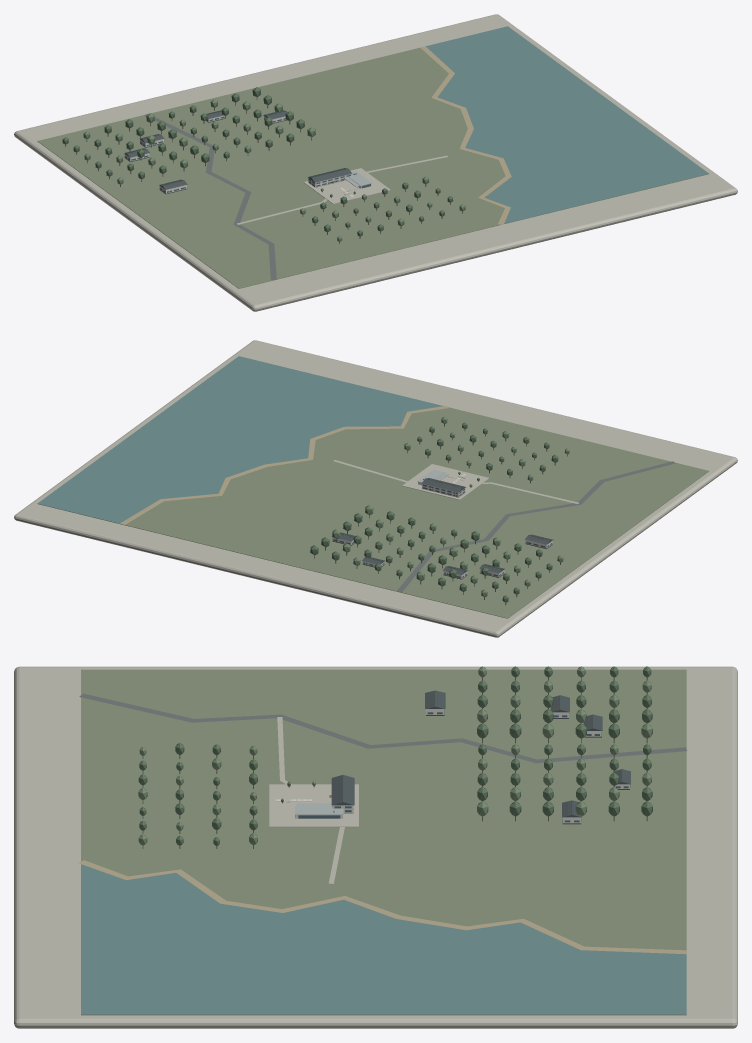
3 renders of one model, top to bottom at view 1: azimuth 30°, elevation 25°; view 2: azimuth 150°, elevation 25°; view 3: azimuth 270°, elevation 25°, orthographic. The views are drawn at different scales.
Parts seen in each view (by area): view 1: IN_terrain, IN_lake, IN_study_base, IN_shoreline, IN_rural_road, IN_hero_terrace; view 2: IN_terrain, IN_lake, IN_study_base, IN_shoreline, IN_rural_road, IN_hero_terrace; view 3: IN_terrain, IN_lake, IN_study_base, IN_shoreline, IN_rural_road, IN_hero_terrace, IN_branch, IN_hero_pitched_roof.
Part boxes in pixels (bbox=[...]): IN_terrain: bbox=[37, 47, 708, 288]; IN_lake: bbox=[426, 26, 708, 223]; IN_study_base: bbox=[14, 14, 737, 311]; IN_shoreline: bbox=[420, 46, 511, 224]; IN_rural_road: bbox=[144, 113, 276, 279]; IN_hero_terrace: bbox=[303, 168, 390, 204]; IN_terrain: bbox=[37, 407, 708, 618]; IN_lake: bbox=[38, 356, 443, 523]; IN_study_base: bbox=[14, 340, 737, 637]; IN_shoreline: bbox=[120, 405, 448, 524]; IN_rural_road: bbox=[397, 461, 675, 591]; IN_hero_terrace: bbox=[402, 464, 489, 499]; IN_terrain: bbox=[81, 669, 686, 1015]; IN_lake: bbox=[81, 864, 686, 1014]; IN_study_base: bbox=[14, 666, 737, 1028]; IN_shoreline: bbox=[78, 860, 686, 954]; IN_rural_road: bbox=[79, 693, 687, 763]; IN_hero_terrace: bbox=[269, 784, 358, 827]; IN_branch: bbox=[277, 717, 344, 883]; IN_hero_pitched_roof: bbox=[331, 775, 354, 805].
Size of the model in its own units: 640 by 25.4 by 550.
